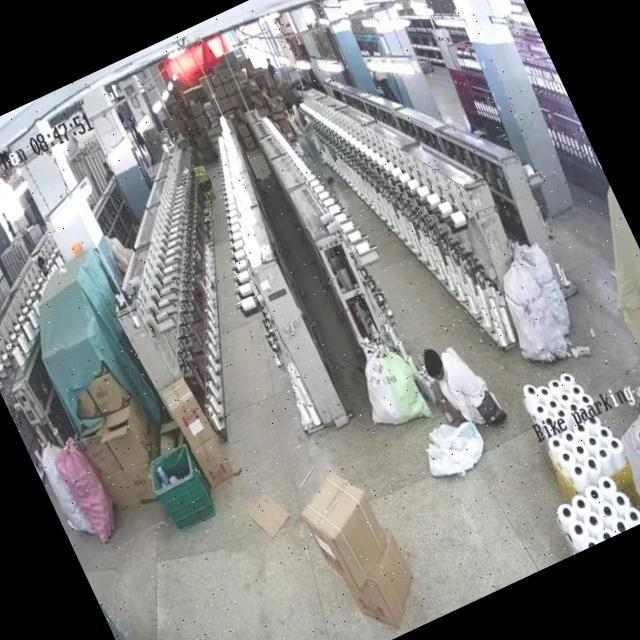person: (414, 329, 506, 439), (280, 97, 338, 202)
